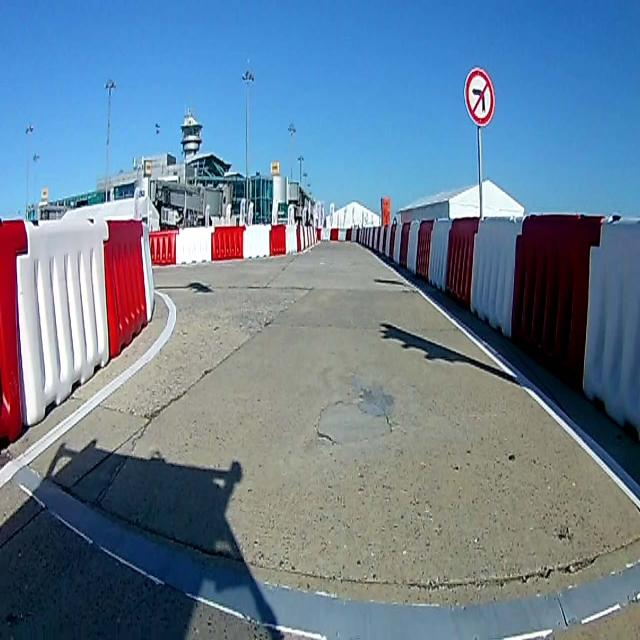soladonulmez: (463, 68, 495, 125)
